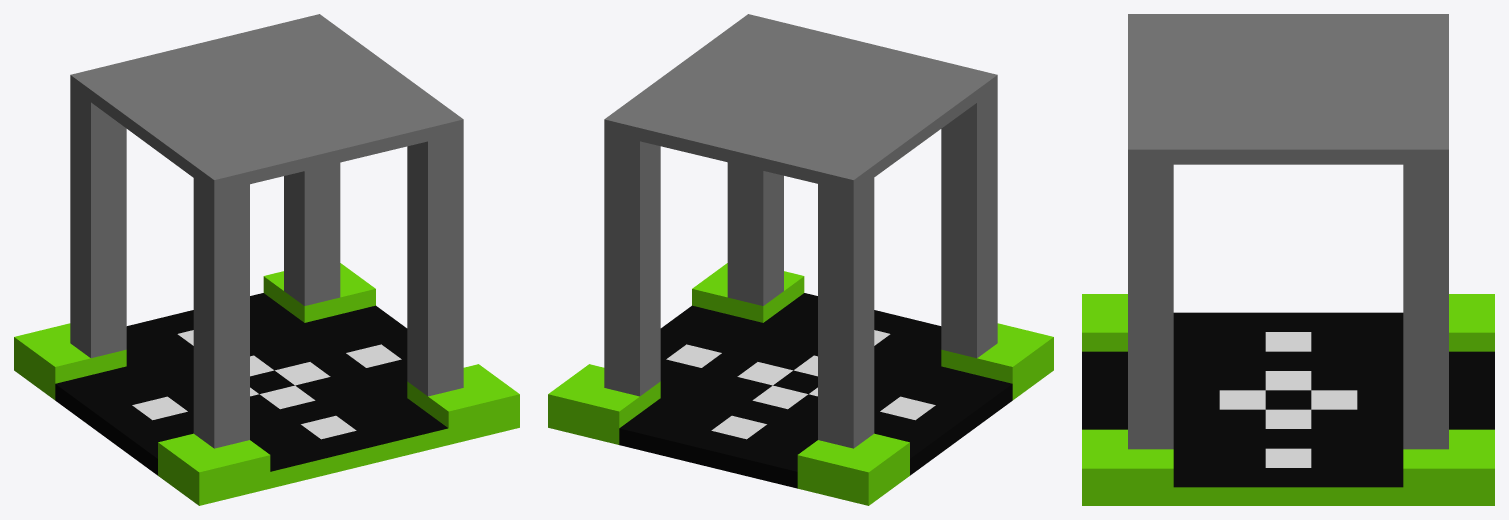
Rendered from RoadCrosswayTunel.fbx.
The picture shows the model from 3 angles, left to right: view 1: azimuth 30°, elevation 25°; view 2: azimuth 150°, elevation 25°; view 3: azimuth 270°, elevation 25°; orthographic projection. The views are drawn at different scales.
Parts seen in each view (by area): view 1: Crossway; view 2: Crossway; view 3: Crossway.
Boxes of the visible parts, <box> form: Crossway: <box>14,14,519,505</box>; Crossway: <box>548,14,1053,505</box>; Crossway: <box>1082,14,1494,505</box>.
Size of the model in its own units: 10 by 9 by 10.
